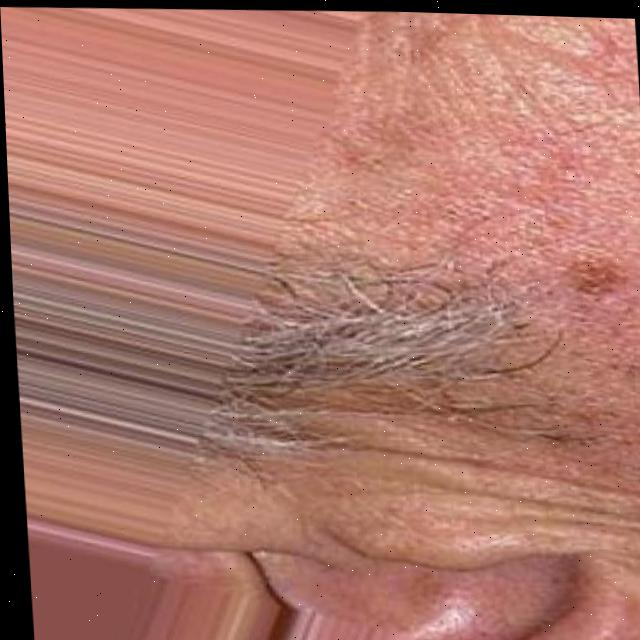Rosacea: (561, 267, 606, 308)
